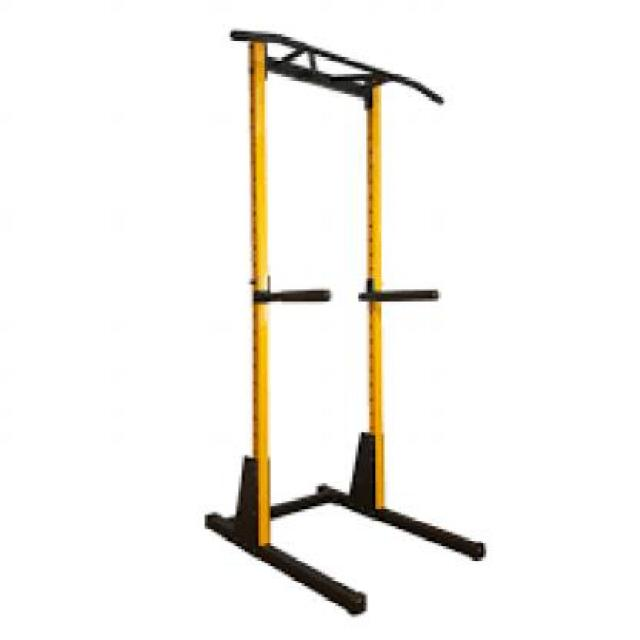chinning dipping: (205, 26, 488, 617)
